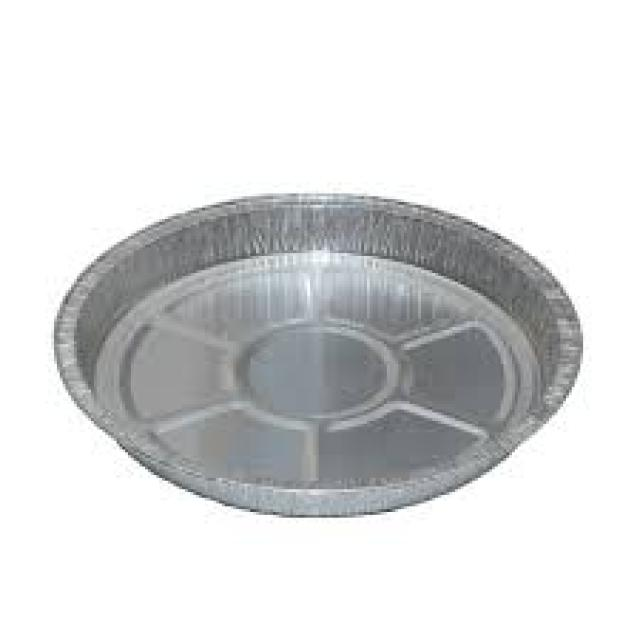metal: (51, 191, 580, 512)
